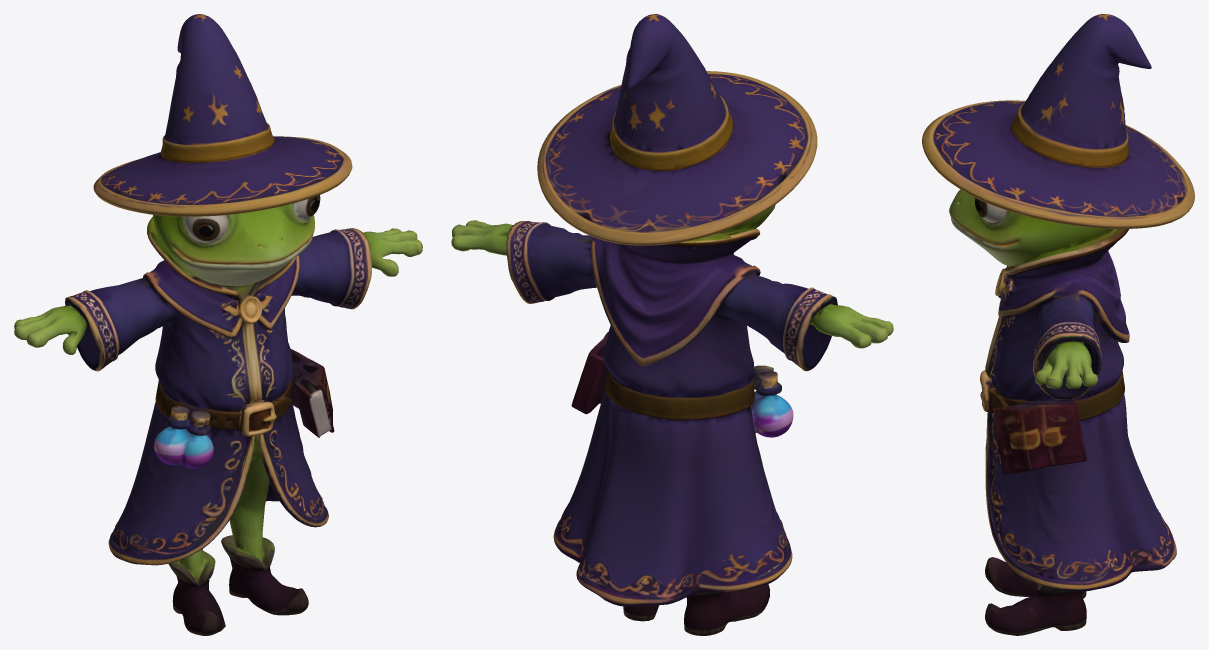
File: frog_hy3_40k.glb
The picture shows the model from 3 angles, left to right: view 1: azimuth 30°, elevation 25°; view 2: azimuth 150°, elevation 25°; view 3: azimuth 270°, elevation 25°; orthographic projection. The views are drawn at different scales.
Visible parts, largest first — view 1: material; view 2: material; view 3: material.
Part boxes in pixels (<box>): material: <box>14,14,422,635</box>; material: <box>451,14,893,635</box>; material: <box>922,14,1194,635</box>.
Size of the model in its own units: 0.8572 by 1.17 by 0.4867.
Materials: 1 (1 with a texture image).
